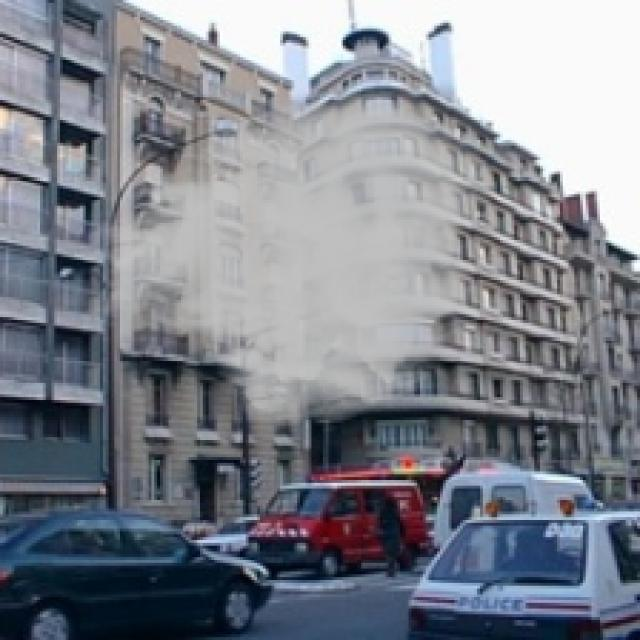smoke: (83, 86, 497, 428)
